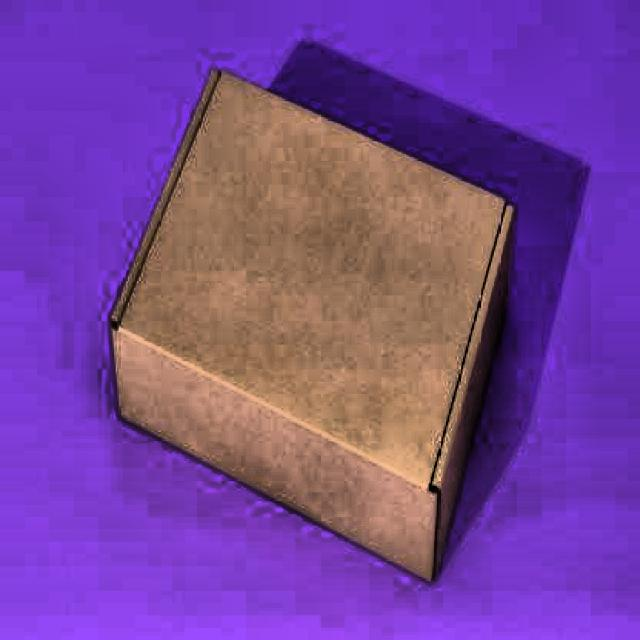Cardbox: (106, 61, 520, 593)
